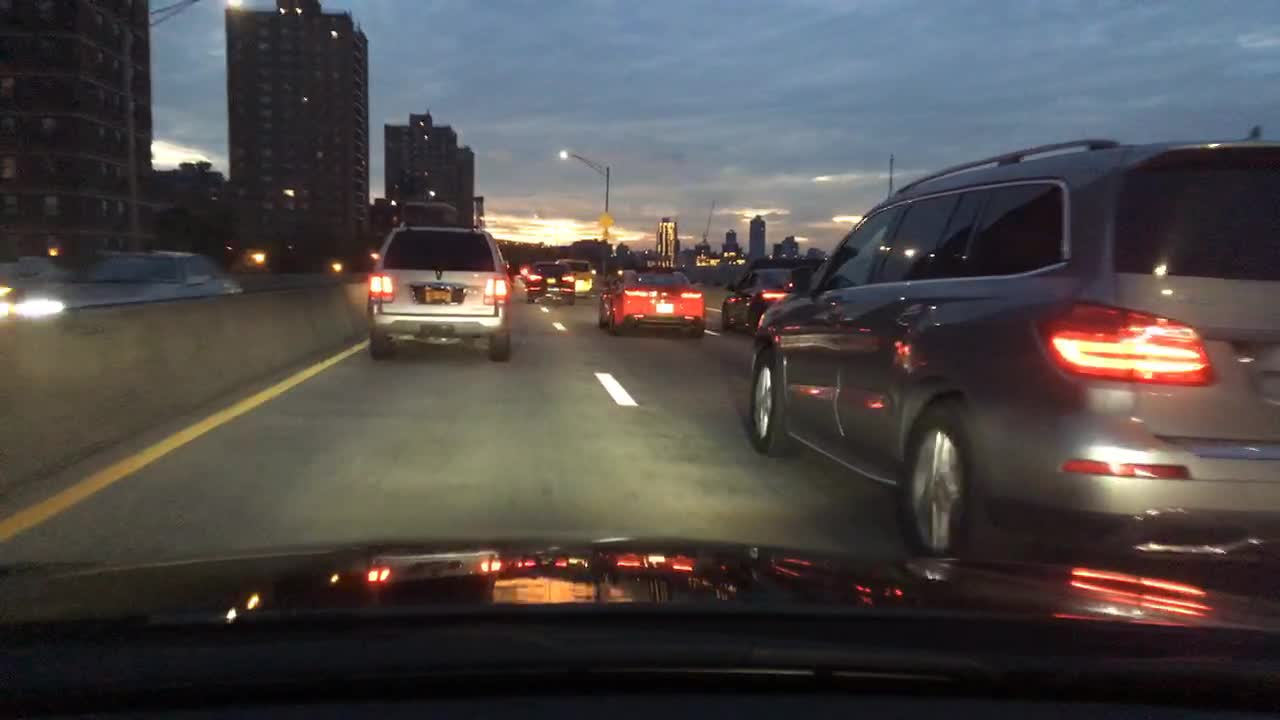car: (744, 139, 1279, 579), (366, 224, 512, 362), (62, 246, 245, 311), (596, 269, 706, 338), (718, 260, 819, 334), (0, 254, 59, 317), (525, 261, 576, 307), (554, 259, 593, 299), (518, 261, 529, 279)
traffic sign: (600, 212, 615, 228), (600, 228, 612, 239)
